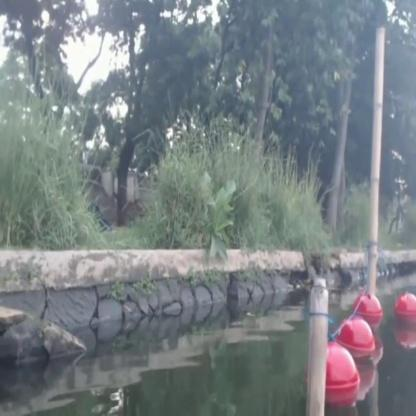red_buoy: (326, 344, 358, 408), (342, 316, 374, 358), (394, 293, 415, 333), (360, 292, 383, 322)
